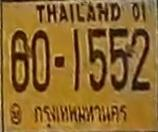0: (32, 29, 51, 91)
1: (74, 28, 80, 92)
2: (131, 28, 151, 91)
5: (87, 28, 107, 92), (109, 28, 129, 92)
6: (11, 30, 28, 92)
BKK: (29, 99, 128, 129)
